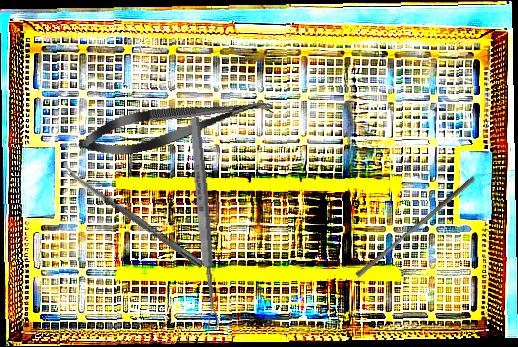Micro Scissor: (75, 84, 276, 165)
Pusher: (354, 171, 477, 282)
Surgical Spoon: (60, 163, 205, 269), (187, 116, 221, 330)
